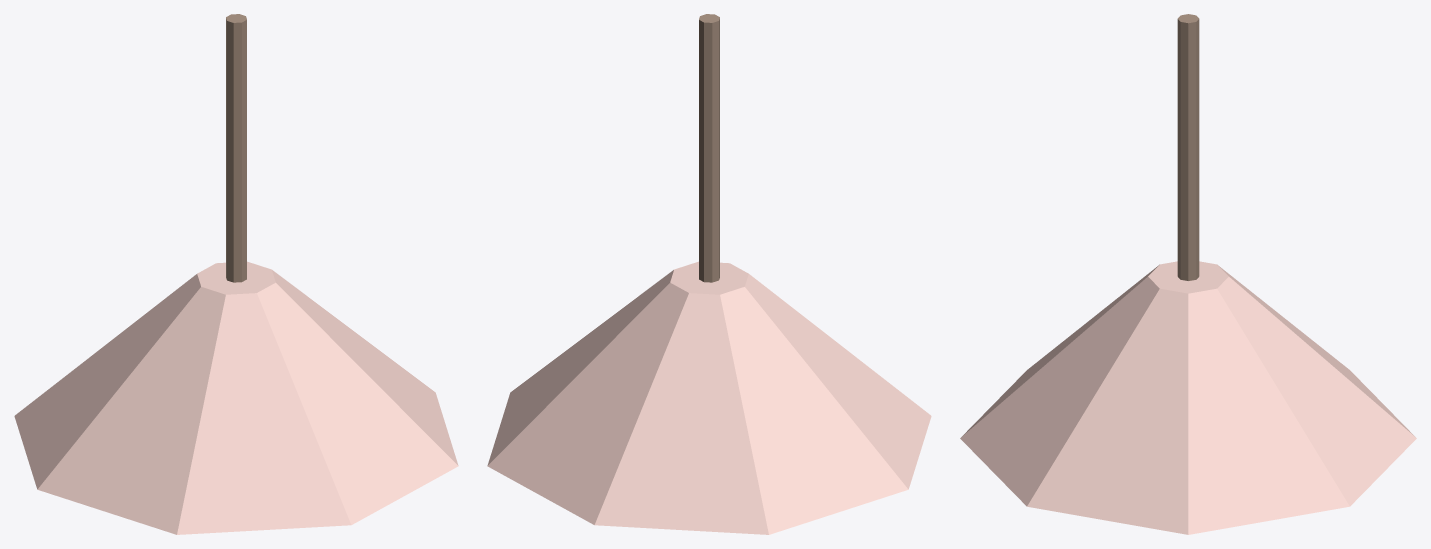
The model's file is Light1.fbx.
3 views of the same model, side by side, from view 1: azimuth 30°, elevation 25°; view 2: azimuth 150°, elevation 25°; view 3: azimuth 270°, elevation 25° (orthographic).
Parts seen in each view (by area): view 1: polySurface1266; view 2: polySurface1266; view 3: polySurface1266.
Boxes of the visible parts, x1,y1,x2,y2 form: polySurface1266: [14, 14, 458, 534]; polySurface1266: [487, 14, 931, 534]; polySurface1266: [960, 14, 1416, 534].
Size of the model in its own units: 156 by 158 by 156.
